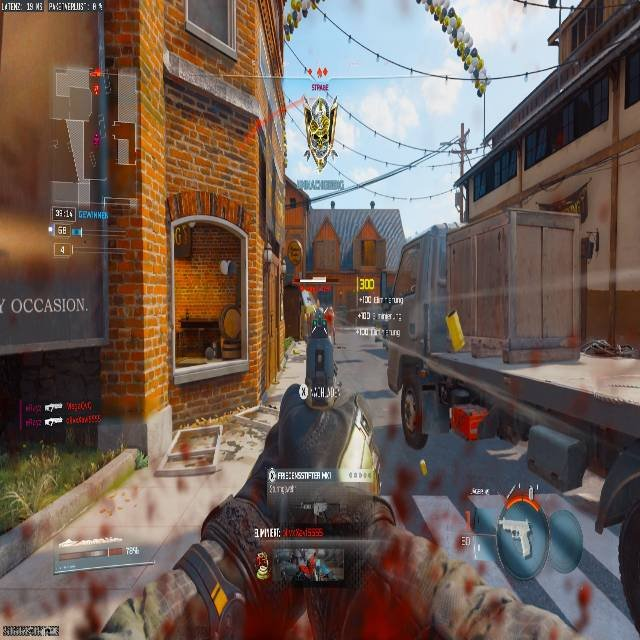head: (314, 298, 331, 318)
player: (305, 301, 339, 383)
